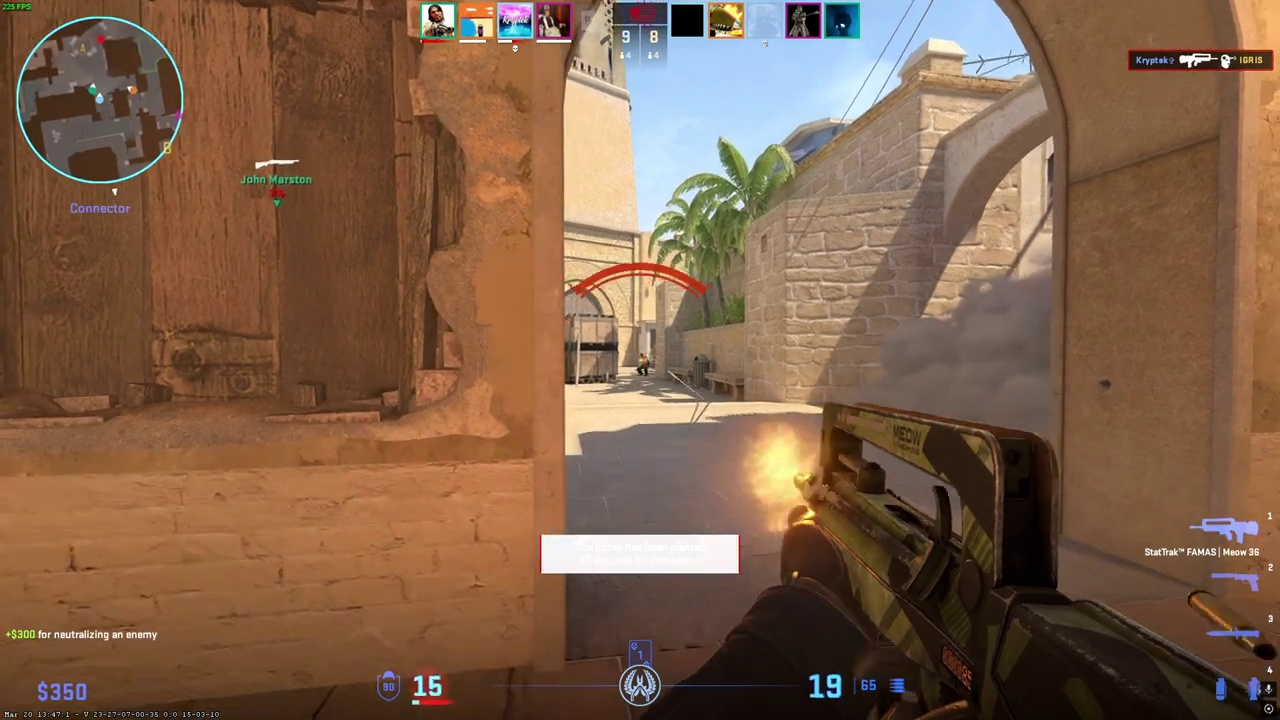Terrorist: (637, 353, 650, 377)
